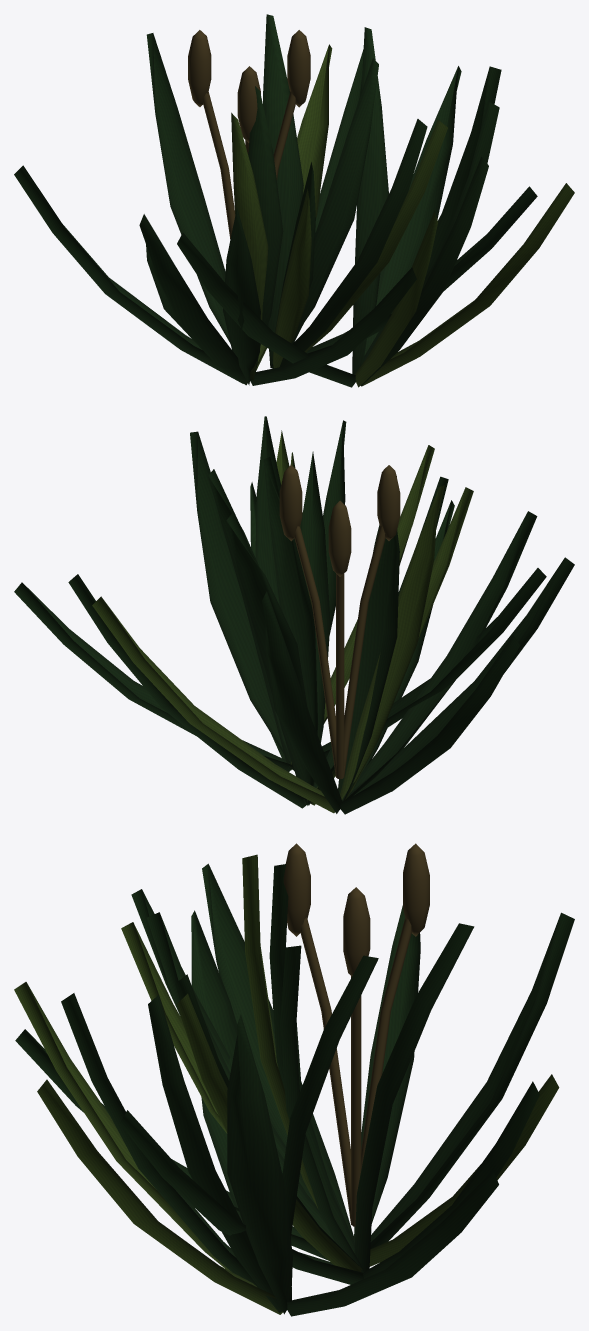
Rendered from grass_tuft_summer.glb.
3 views of the same model, one above another, from view 1: azimuth 30°, elevation 25°; view 2: azimuth 150°, elevation 25°; view 3: azimuth 270°, elevation 25° (orthographic). The views are drawn at different scales.
Visible parts, largest first — view 1: grass_tuft_summer; view 2: grass_tuft_summer; view 3: grass_tuft_summer.
Boxes of the visible parts, box(x1,y1,x2,y2) form: grass_tuft_summer: box(14, 14, 574, 387); grass_tuft_summer: box(14, 416, 574, 814); grass_tuft_summer: box(14, 843, 574, 1316).
Size of the model in its own units: 1.55 by 1.05 by 1.3.
3 materials, 3 textured.
